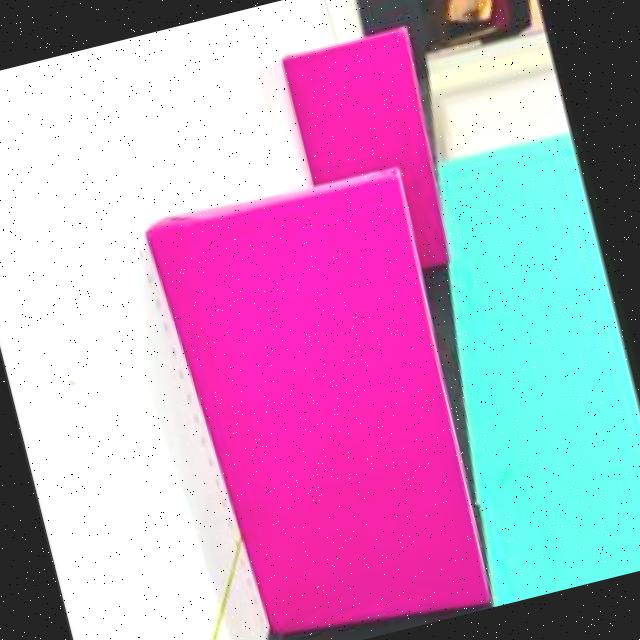xparking: (144, 175, 485, 630), (279, 35, 427, 184)
